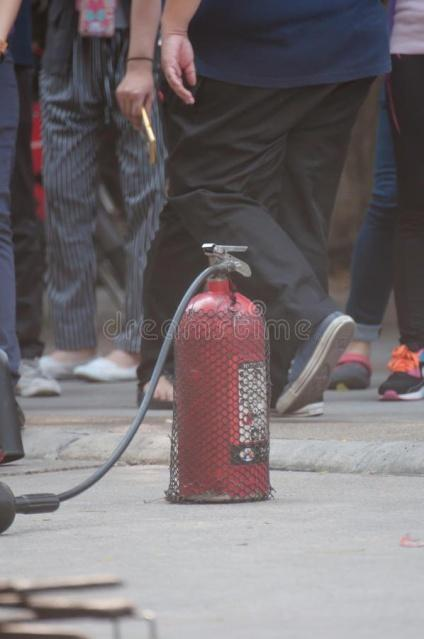APAR: (167, 241, 270, 504)
